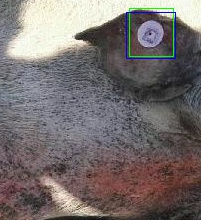text: (129, 8, 173, 56)
